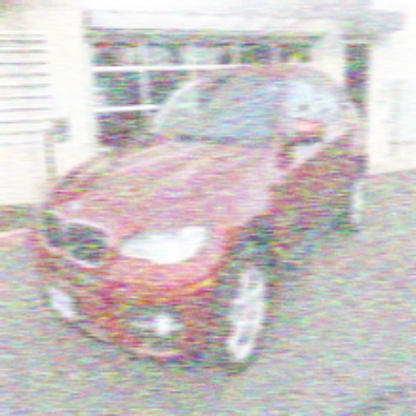Vehicle: (28, 66, 369, 376)
